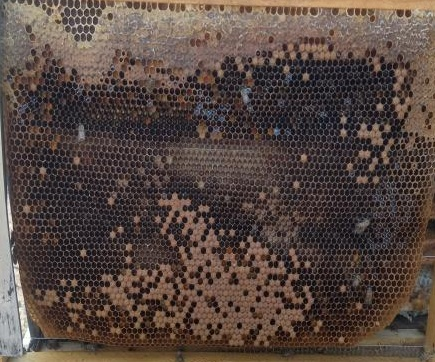cria: (31, 182, 316, 346), (338, 58, 412, 190), (216, 43, 338, 83)
